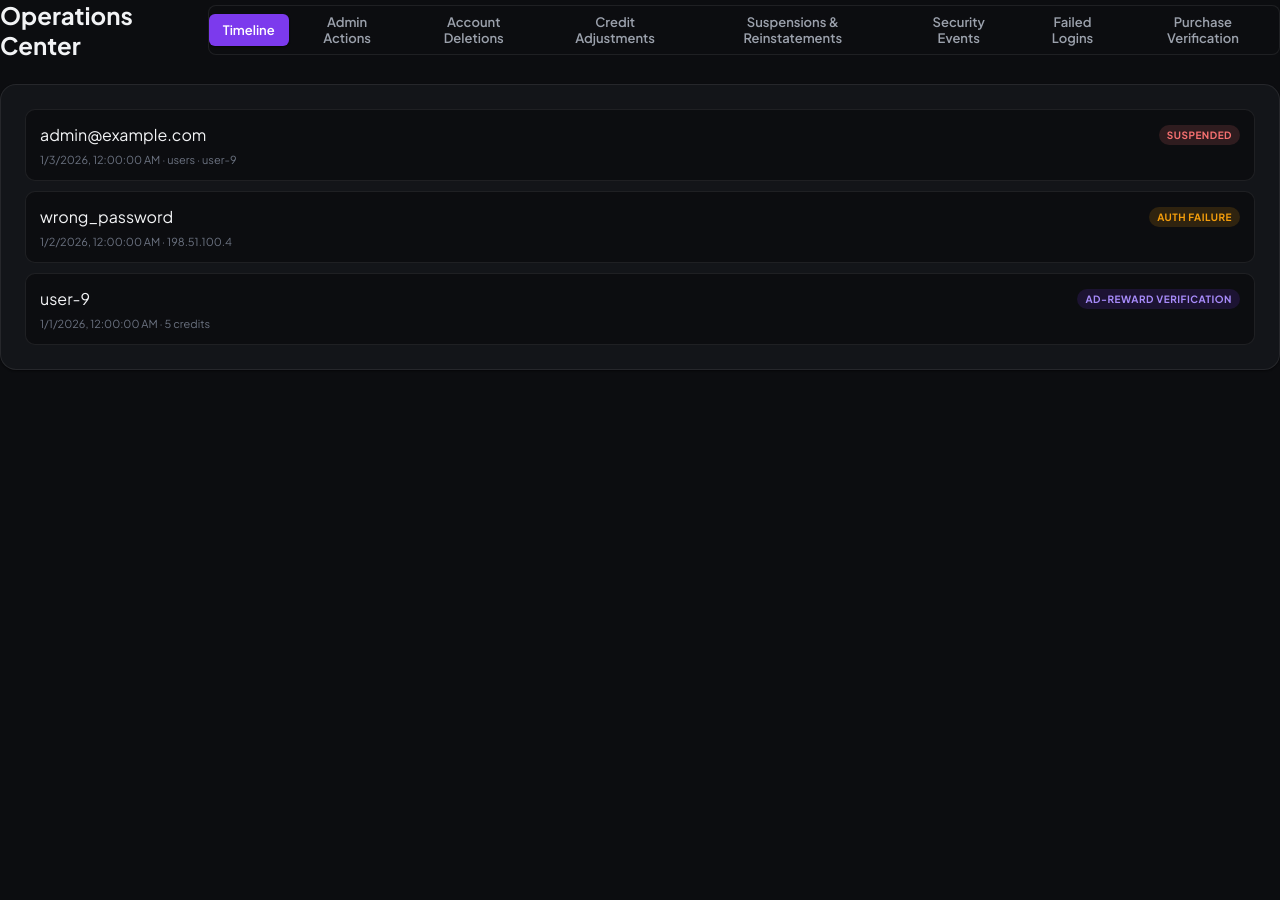
OperationsCenterPage - Timeline › opens the audit drawer when a timeline card is clicked
The width and height of the screenshot is (1280, 900).
Expected: the text "wrong_password" is shown, [40, 206, 173, 227]
Click the button with class "finding-card" that starts with "admin@example.com" at (123, 134), box [25, 109, 1255, 181]
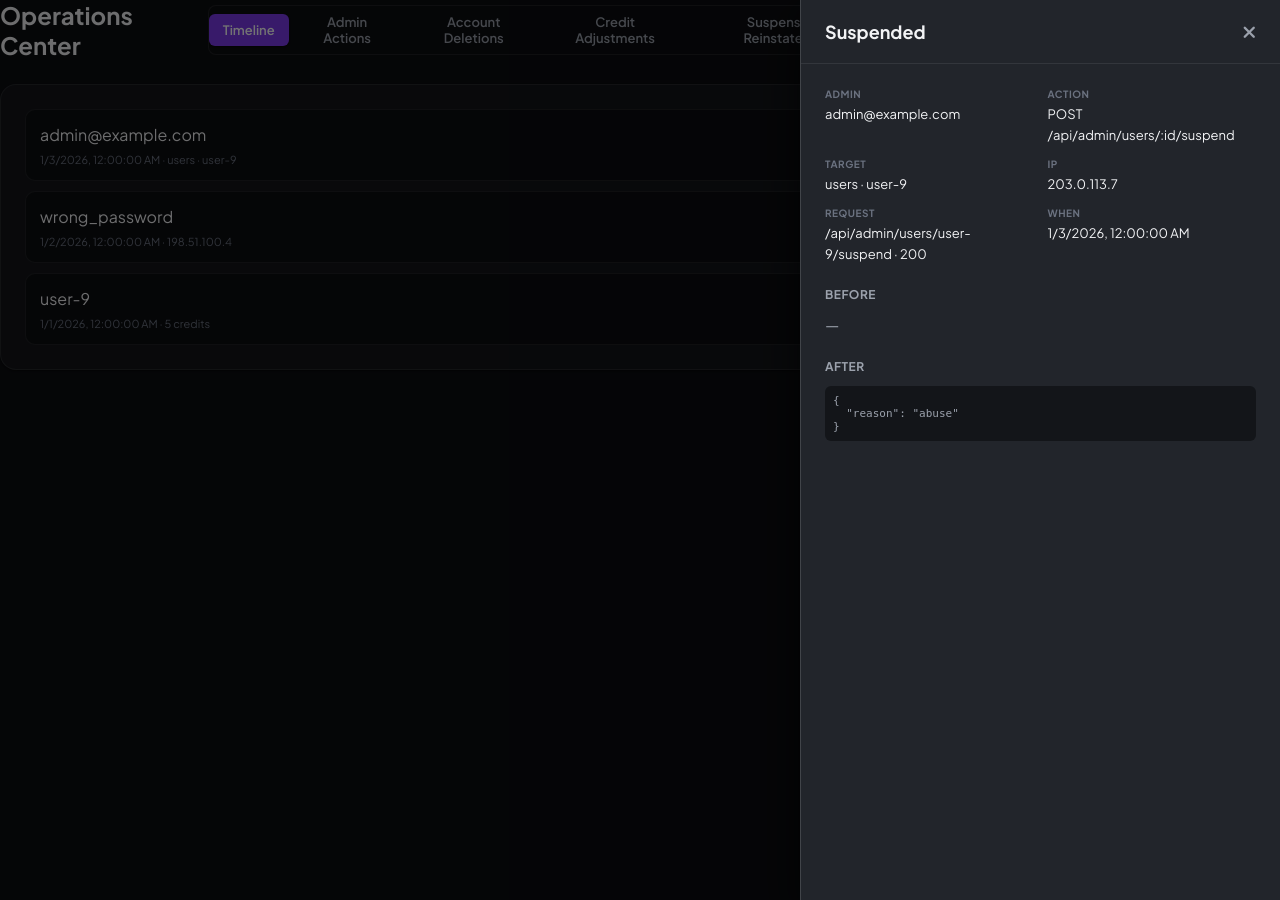
Result: the text "/api/admin/users/user-9/suspend" is shown at [825, 225, 971, 262]
